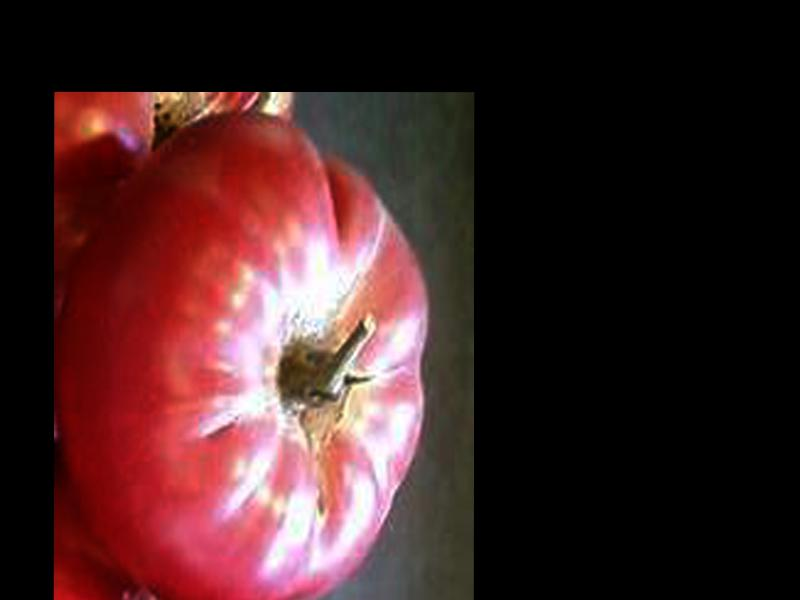Tomato: (55, 109, 427, 600)
